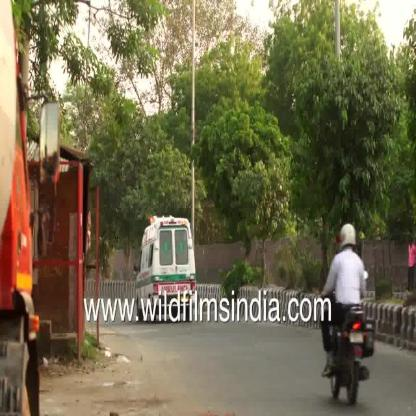priority: (136, 208, 192, 298)
